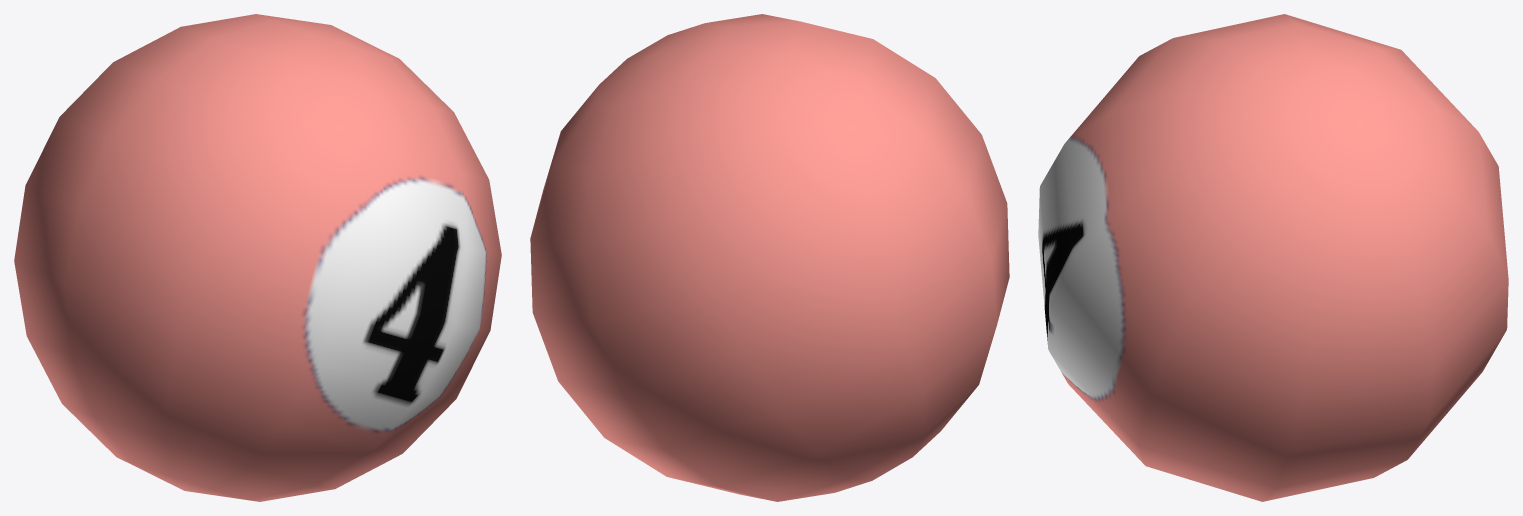
Rendered from Ball4.gltf.
3 views of the same model, side by side, from view 1: azimuth 30°, elevation 25°; view 2: azimuth 150°, elevation 25°; view 3: azimuth 270°, elevation 25° (orthographic).
Visible parts, largest first — view 1: Ball4_Material_#28_0; view 2: Ball4_Material_#28_0; view 3: Ball4_Material_#28_0.
Part boxes in pixels (x1,y1,x2,y2): Ball4_Material_#28_0: [14, 14, 501, 501]; Ball4_Material_#28_0: [530, 14, 1009, 501]; Ball4_Material_#28_0: [1038, 14, 1508, 501].
Size of the model in its own units: 5.66 by 5.69 by 5.57.
Materials: 1 (1 with a texture image).
